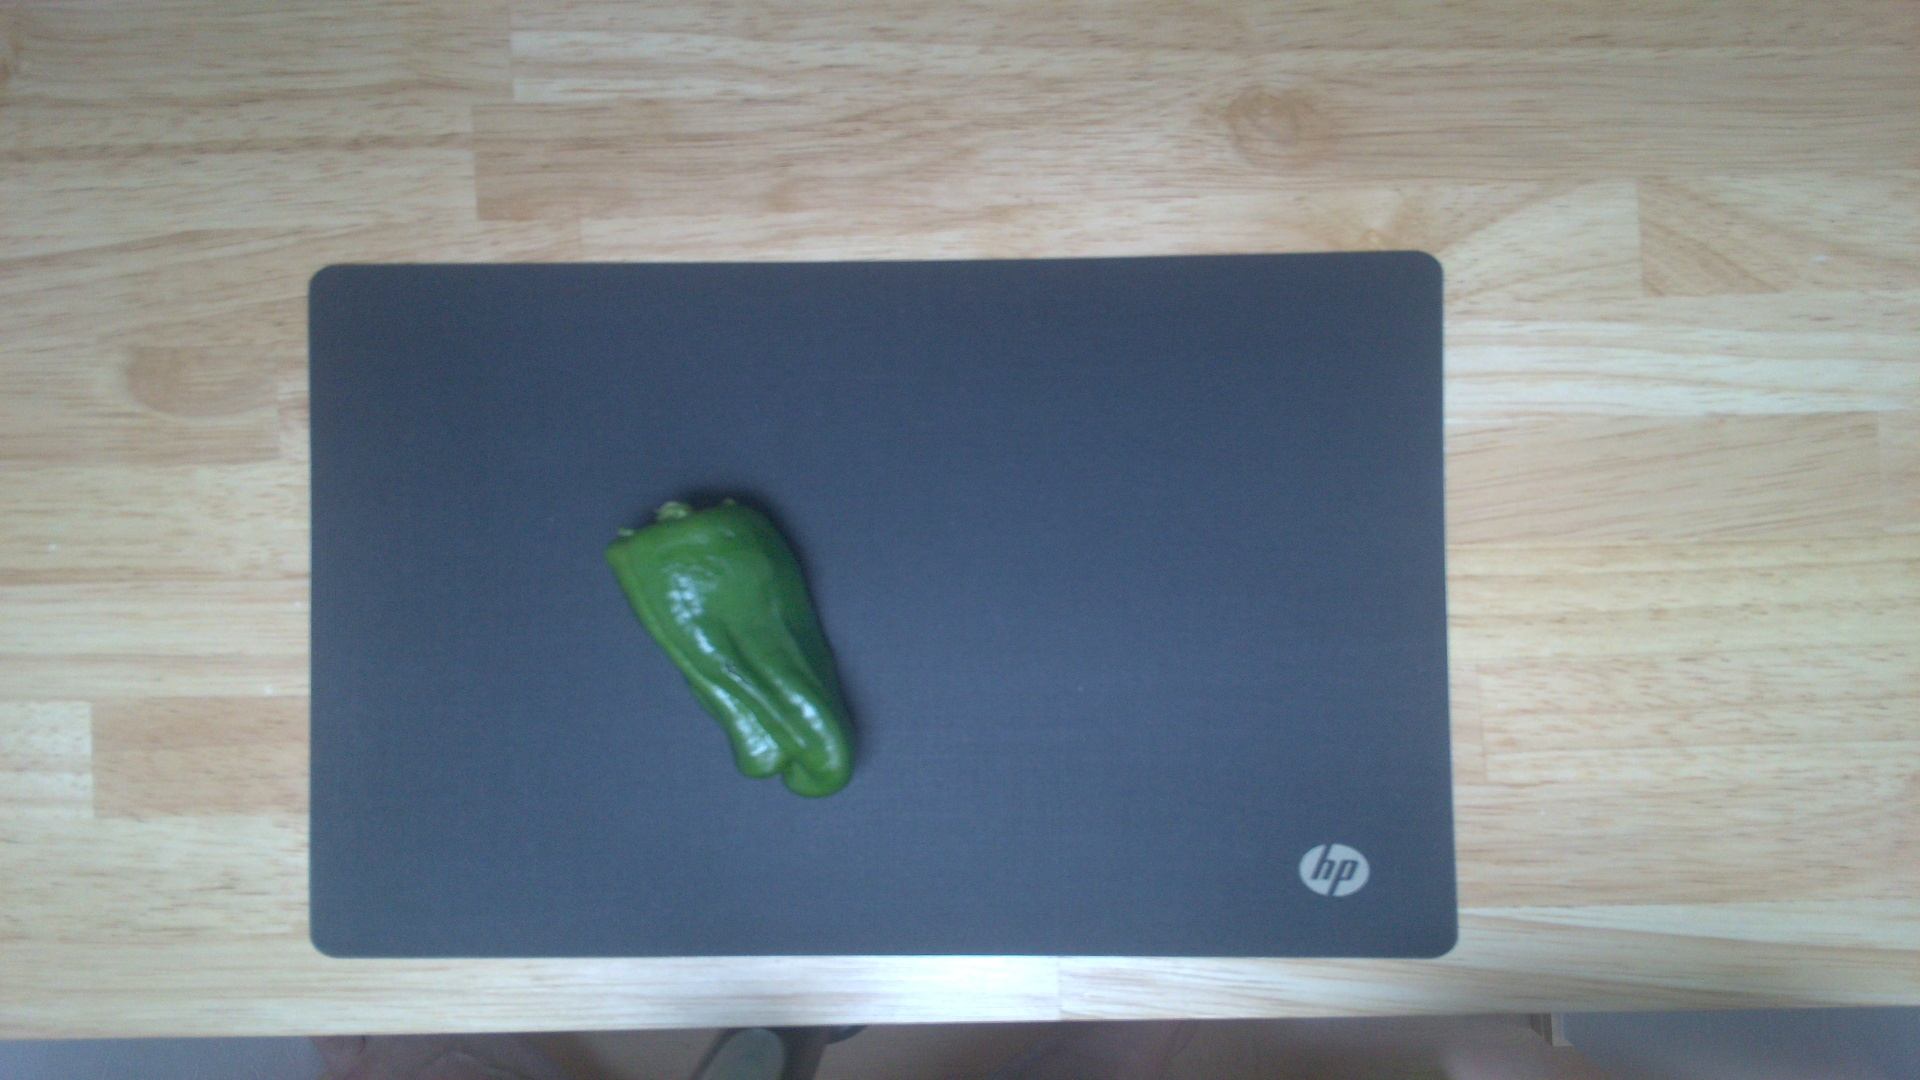Piman: (612, 489, 862, 800)
